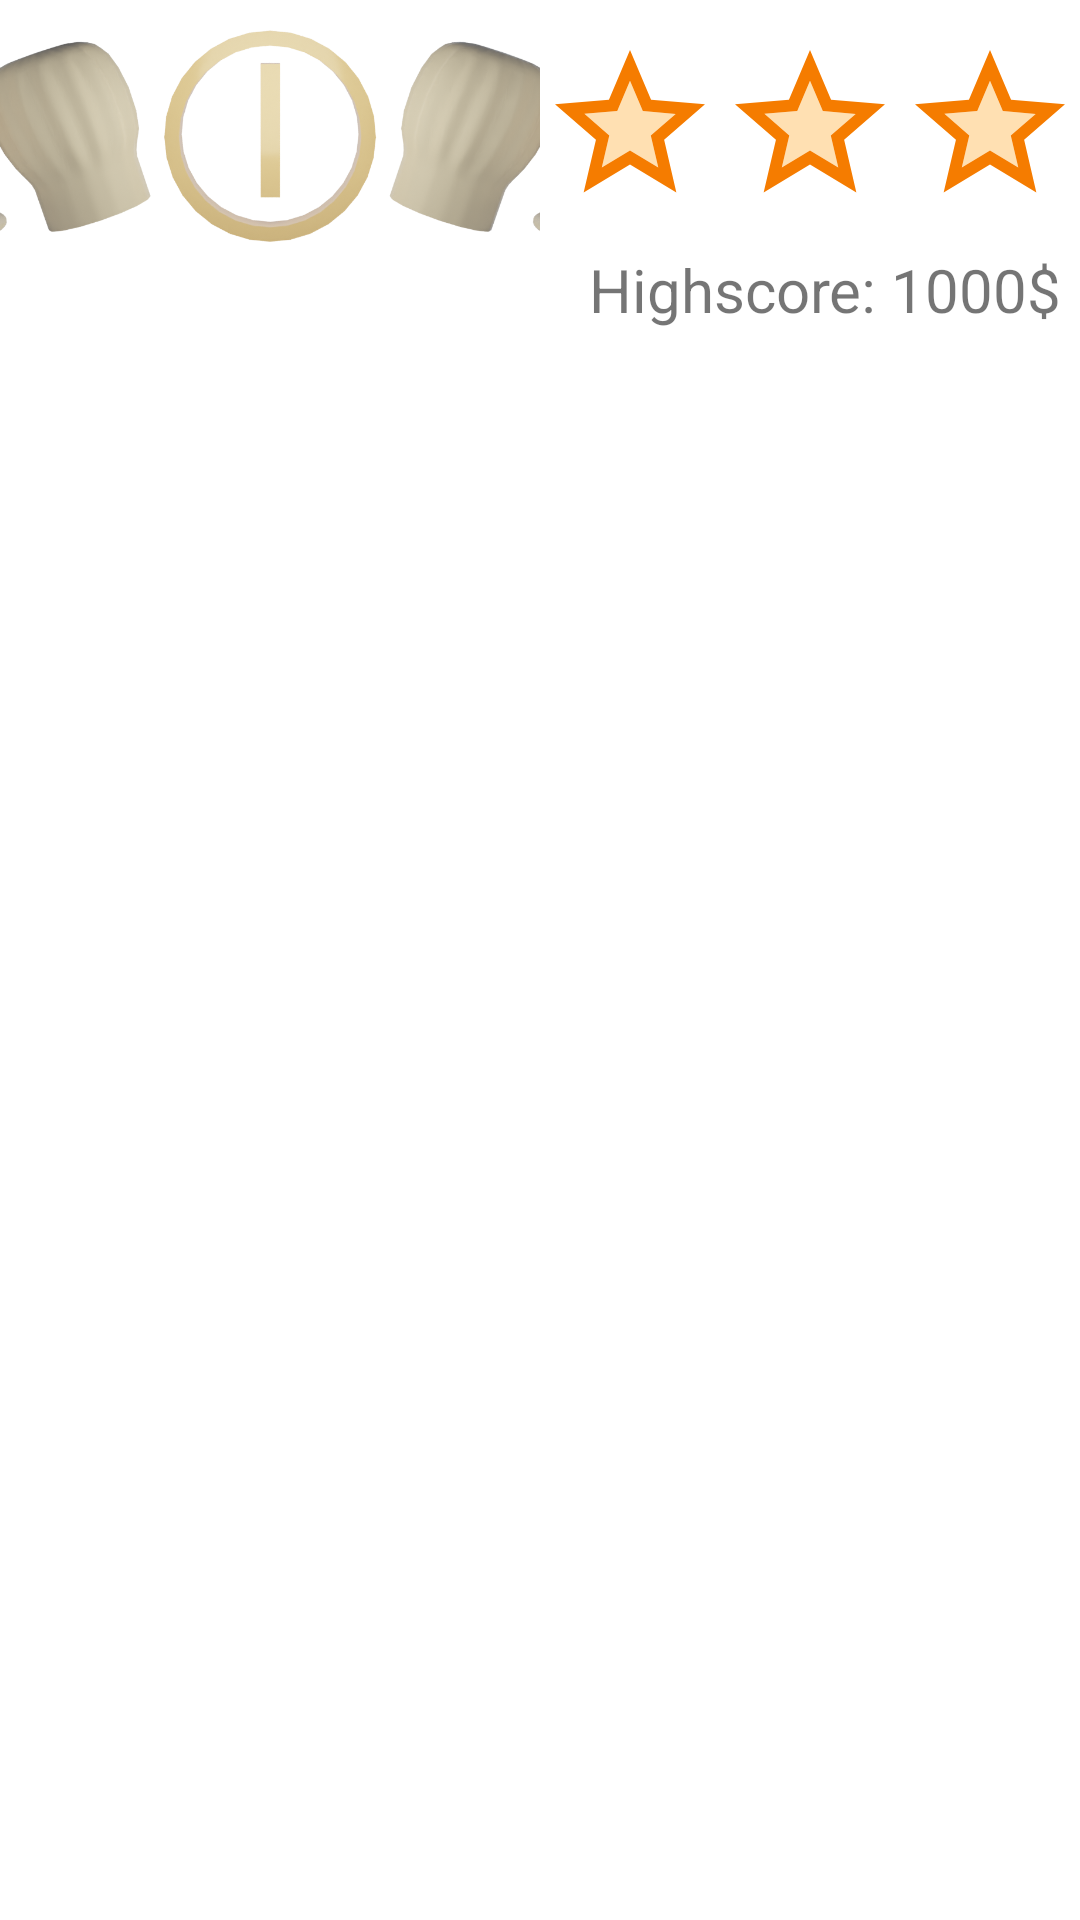

Icons on this 1080 × 1920 Android screen, each with its box as (x1, y1, x2, y2):
star: (555, 50, 705, 193), (735, 50, 885, 193), (915, 50, 1065, 193)
